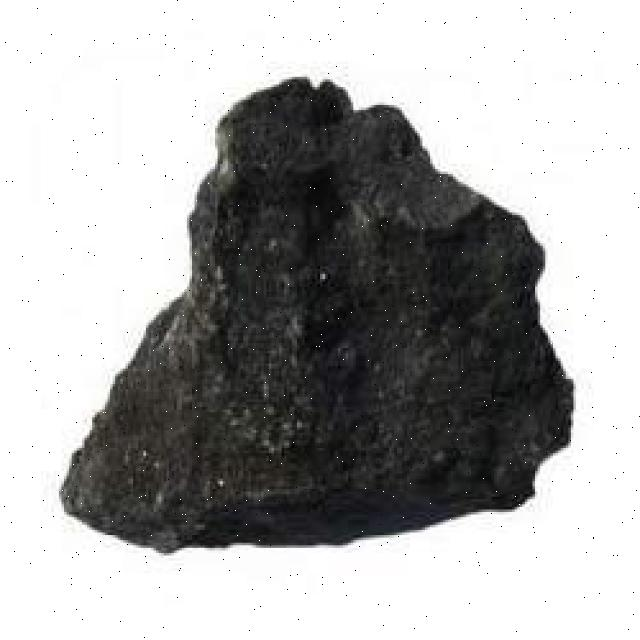Igneous: (54, 66, 591, 548)
